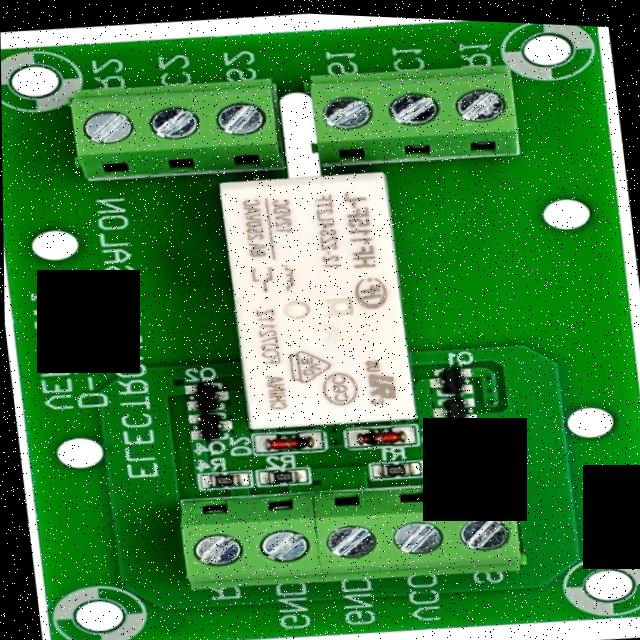4439: (177, 407, 229, 441), (180, 377, 225, 411), (428, 363, 469, 392), (433, 391, 469, 423)
connector -5v-: (169, 461, 529, 600), (303, 49, 522, 172), (64, 69, 283, 185)
diode -D1-: (339, 415, 415, 448), (257, 426, 321, 453)
relay: (209, 160, 421, 435)
resistor IR1: (255, 465, 305, 485), (374, 456, 419, 477), (201, 468, 247, 488), (437, 452, 481, 471)
